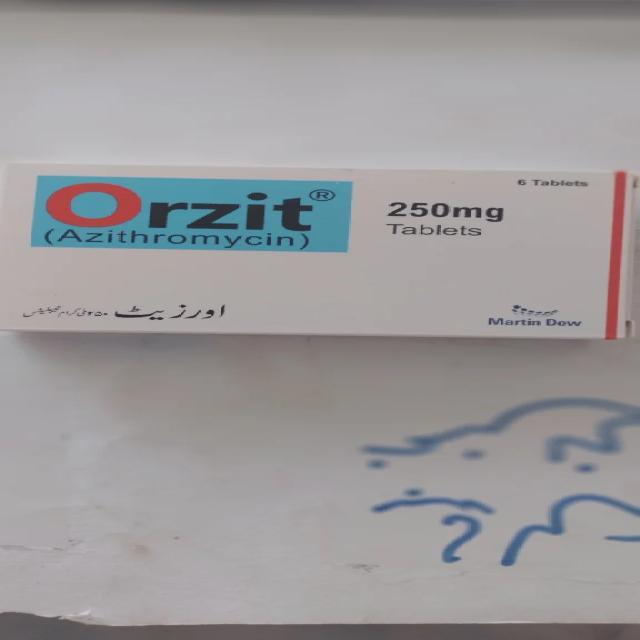drug-name: (46, 180, 314, 234)
